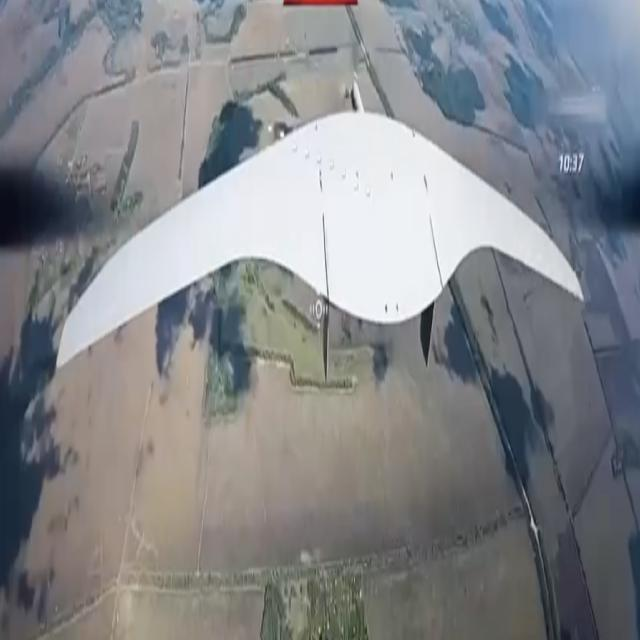vehicle: (56, 78, 584, 365)
